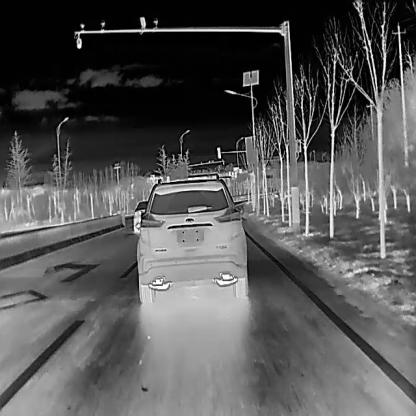car: (135, 175, 249, 303), (132, 199, 150, 232)
